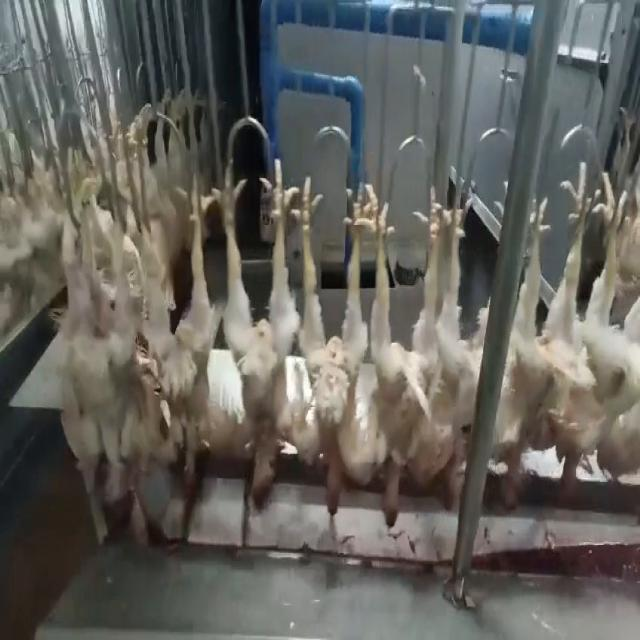chicken: (120, 157, 215, 518), (212, 149, 300, 517), (370, 180, 448, 530), (293, 176, 367, 519), (52, 194, 122, 549), (526, 157, 591, 510), (430, 178, 485, 511), (596, 169, 640, 507)
